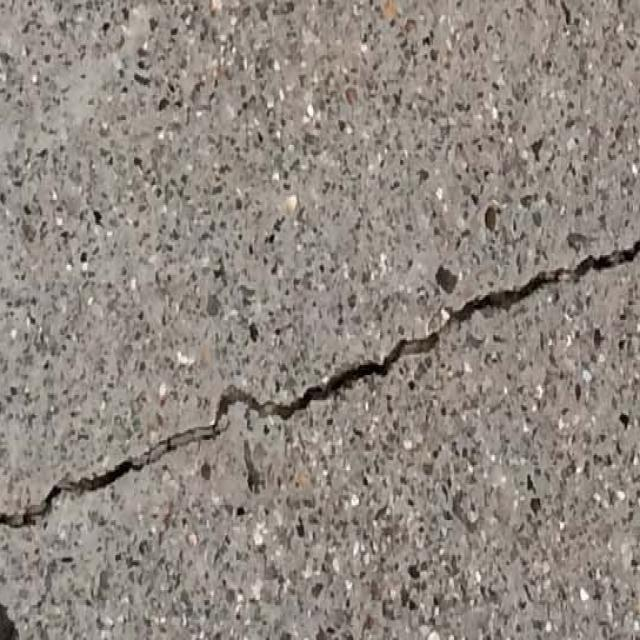Diagonal: (0, 244, 640, 532)
